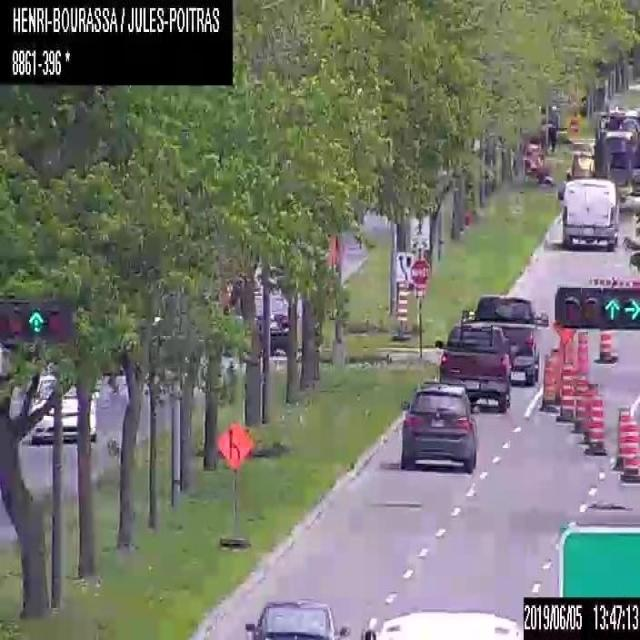construction: (216, 418, 252, 551), (586, 395, 606, 453), (613, 404, 631, 468), (557, 360, 575, 421), (623, 414, 639, 481), (540, 350, 557, 411), (581, 379, 598, 440), (572, 377, 589, 433), (553, 319, 575, 362), (596, 329, 613, 363), (577, 328, 589, 375)
pedestrian: (546, 104, 558, 150)
vehicle: (397, 378, 477, 473), (462, 294, 546, 384), (435, 322, 510, 408), (359, 606, 523, 638), (23, 373, 99, 441), (556, 179, 626, 252), (243, 593, 350, 639), (594, 110, 639, 197), (246, 294, 296, 356)
